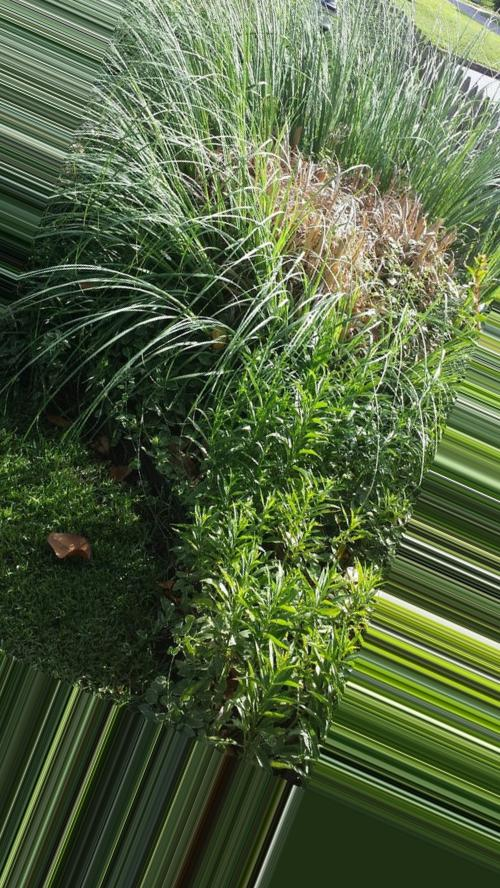patch: (312, 167, 361, 234)
